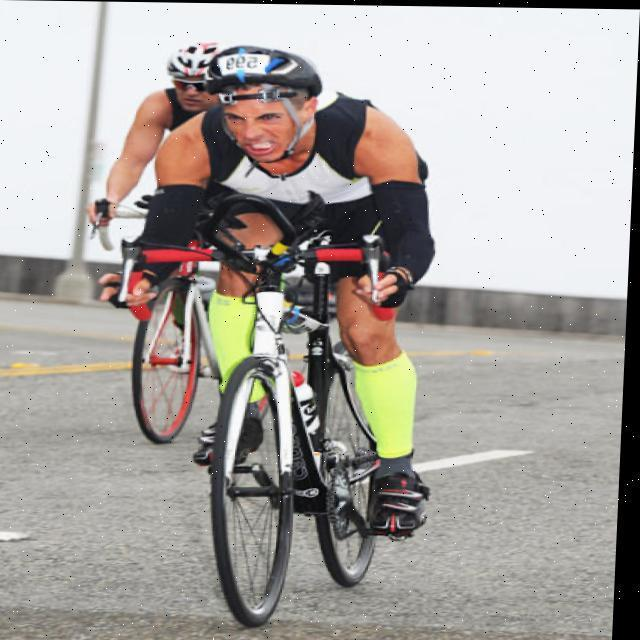Helmet: (182, 36, 340, 163)
